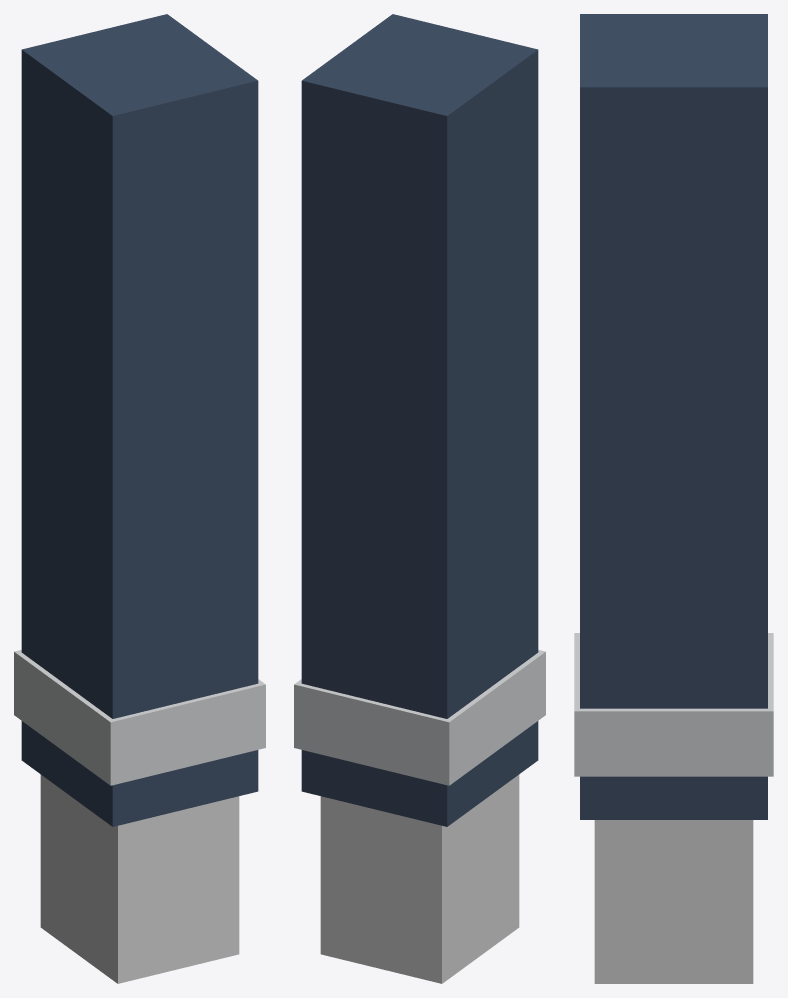
File: officer_left_arm.glb
3 renders of one model, left to right at view 1: azimuth 30°, elevation 25°; view 2: azimuth 150°, elevation 25°; view 3: azimuth 270°, elevation 25°, orthographic. The views are drawn at different scales.
Visible parts, largest first — view 1: officer_left_arm; view 2: officer_left_arm; view 3: officer_left_arm.
Part boxes in pixels (bbox=[...]): officer_left_arm: bbox=[14, 14, 265, 983]; officer_left_arm: bbox=[294, 14, 545, 983]; officer_left_arm: bbox=[574, 14, 773, 983].
Bounding box in the file's own units: 0.128 × 0.69 × 0.138.
